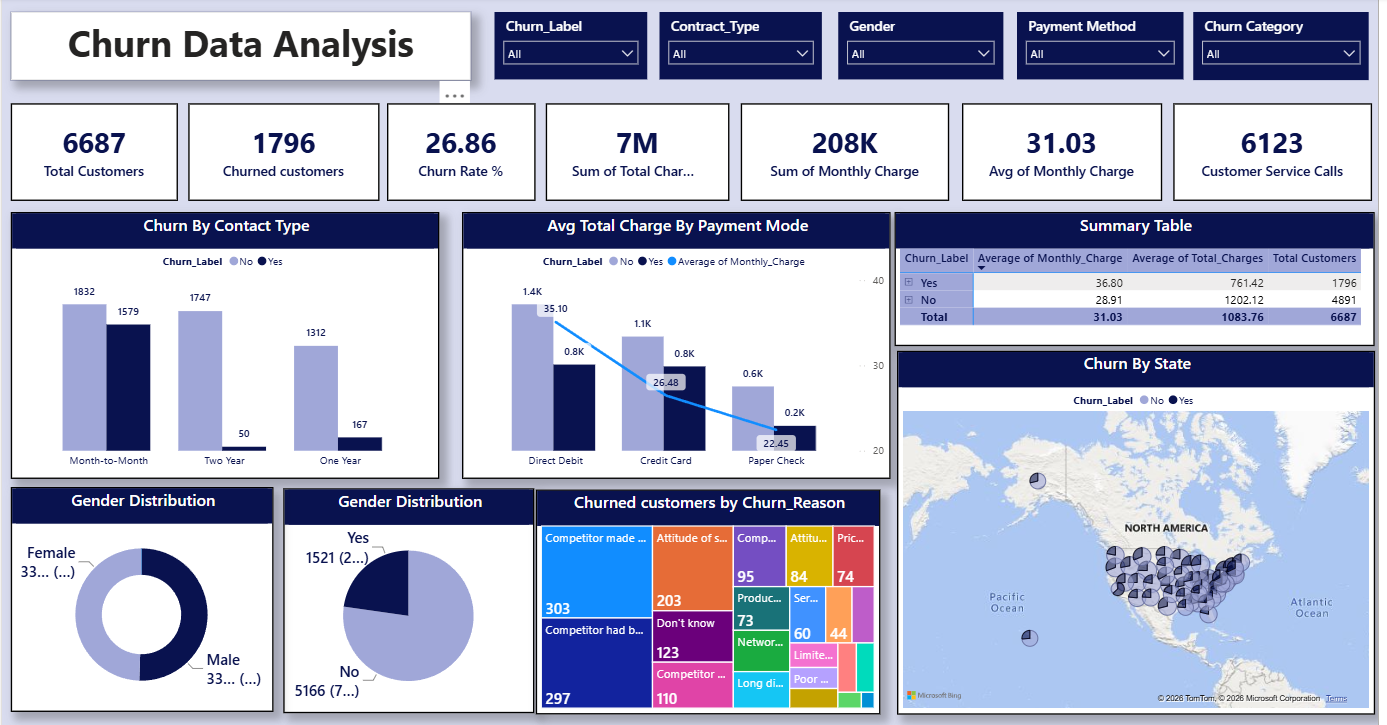

What the dashboard file says about the page in this screenshot:
{"tool":"powerbi","page":{"name":"Page 1","canvas":[1600,846],"ordinal":0},"visuals":[{"type":"textbox","box":[10.3,17.2,535.2,78.9],"z":0},{"type":"slicer","fields":{"Values":["practice.Churn_Label"]},"box":[572.7,17.4,177.3,78.5],"z":1000},{"type":"slicer","fields":{"Values":["practice.Contract_Type"]},"box":[764.5,17.4,189,78.5],"z":2000},{"type":"slicer","fields":{"Values":["practice.Gender"]},"box":[972.4,17.4,191.9,78.5],"z":3000},{"type":"slicer","fields":{"Values":["practice.Payment_Method"]},"box":[1180.2,17.4,193.3,78.5],"z":4000},{"type":"slicer","fields":{"Values":["practice.Churn_Category"]},"box":[1385.2,17.4,204.1,78.9],"z":5000},{"type":"cardVisual","fields":{"Data":["practice.Total Customers"]},"box":[10.2,123.5,194.8,113.4],"z":6000},{"type":"cardVisual","fields":{"Data":["practice.Churned customers"]},"box":[216.6,123.5,222.4,113.4],"z":7000},{"type":"cardVisual","fields":{"Data":["practice.Churn Rate %"]},"box":[447.7,123.5,173,113.4],"z":8000},{"type":"cardVisual","fields":{"Data":["Sum(practice.Total_Charges)"]},"box":[632.3,123.5,213.7,113.4],"z":9000},{"type":"cardVisual","fields":{"Data":["Sum(practice.Monthly_Charge)"]},"box":[859,123.5,242.7,113.4],"z":10000},{"type":"cardVisual","fields":{"Data":["Avg(practice.Monthly_Charge)"]},"box":[1116.3,123.5,232.6,113.4],"z":11000},{"type":"cardVisual","fields":{"Data":["Sum(practice.Customer_Service_Calls)"]},"box":[1361.9,123.5,231.1,113.4],"z":12000},{"type":"lineClusteredColumnComboChart","title":"Churn By Contact Type","fields":{"Category":["practice.Contract_Type"],"Y":["practice.Total Customers"],"Series":["practice.Churn_Label"]},"box":[10,250,498.6,310],"z":13000},{"type":"lineClusteredColumnComboChart","title":"Avg Total Charge By Payment Mode","fields":{"Category":["practice.Payment_Method"],"Series":["practice.Churn_Label"],"Y2":["Avg(practice.Monthly_Charge)"],"Y":["Avg(practice.Total_Charges)"]},"box":[534.3,250,498.6,310],"z":14000},{"type":"pieChart","title":"Gender Distribution","fields":{"Category":["practice.Group"],"Y":["practice.Total Customers"]},"box":[327.1,571.4,292.2,261.6],"z":15000},{"type":"donutChart","title":"Gender Distribution","fields":{"Category":["practice.Gender"],"Y":["practice.Total Customers"]},"box":[10,570,305.2,261.6],"z":16000},{"type":"treemap","fields":{"Group":["practice.Churn_Reason"],"Values":["practice.Churned customers"]},"box":[620,572.9,401.2,261.6],"z":17000},{"type":"pivotTable","title":"Summary Table","fields":{"Rows":["practice.Churn_Label","practice.Gender","practice.Contract_Type"],"Values":["Avg(practice.Monthly_Charge)","Avg(practice.Total_Charges)","practice.Total Customers"]},"box":[1037.1,250,558.6,155.7],"z":18000},{"type":"map","title":"Churn By State","fields":{"Category":["practice.State"],"Series":["practice.Churn_Label"],"Size":["practice.Total Customers"]},"box":[1040,411.4,555.7,422.9],"z":19000}]}

Visuals, with their boxes in screenshot pixels (x1, y1, x2, y2), scaled from the page's 1600x846 canvas onto the 1387x725 screenshot:
textbox: Rect(9, 15, 473, 82)
slicer - practice.Churn_Label: Rect(496, 15, 650, 82)
slicer - practice.Contract_Type: Rect(663, 15, 827, 82)
slicer - practice.Gender: Rect(843, 15, 1009, 82)
slicer - practice.Payment_Method: Rect(1023, 15, 1191, 82)
slicer - practice.Churn_Category: Rect(1201, 15, 1378, 83)
cardVisual - practice.Total Customers: Rect(9, 106, 178, 203)
cardVisual - practice.Churned customers: Rect(188, 106, 381, 203)
cardVisual - practice.Churn Rate %: Rect(388, 106, 538, 203)
cardVisual - Sum(practice.Total_Charges): Rect(548, 106, 733, 203)
cardVisual - Sum(practice.Monthly_Charge): Rect(745, 106, 955, 203)
cardVisual - Avg(practice.Monthly_Charge): Rect(968, 106, 1169, 203)
cardVisual - Sum(practice.Customer_Service_Calls): Rect(1181, 106, 1381, 203)
"Churn By Contact Type" lineClusteredColumnComboChart: Rect(9, 214, 441, 480)
"Avg Total Charge By Payment Mode" lineClusteredColumnComboChart: Rect(463, 214, 895, 480)
"Gender Distribution" pieChart: Rect(284, 490, 537, 714)
"Gender Distribution" donutChart: Rect(9, 488, 273, 713)
treemap - practice.Churn_Reason x practice.Churned customers: Rect(537, 491, 885, 715)
"Summary Table" pivotTable: Rect(899, 214, 1383, 348)
"Churn By State" map: Rect(902, 353, 1383, 715)
